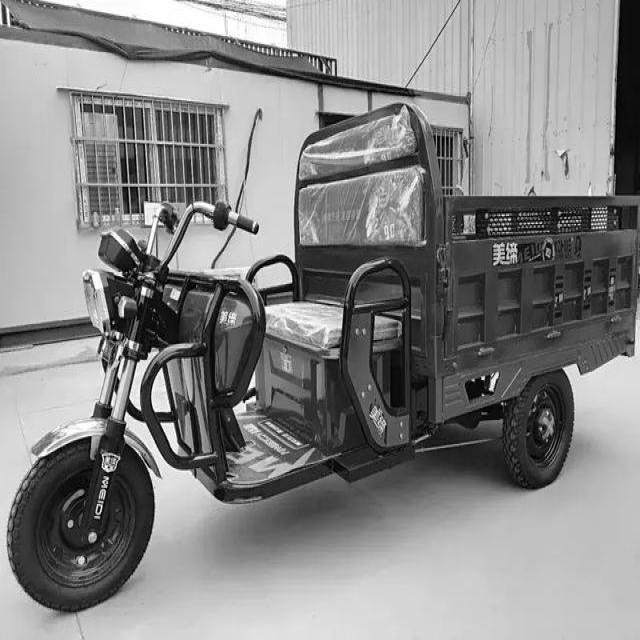tricycle: (2, 97, 639, 611)
